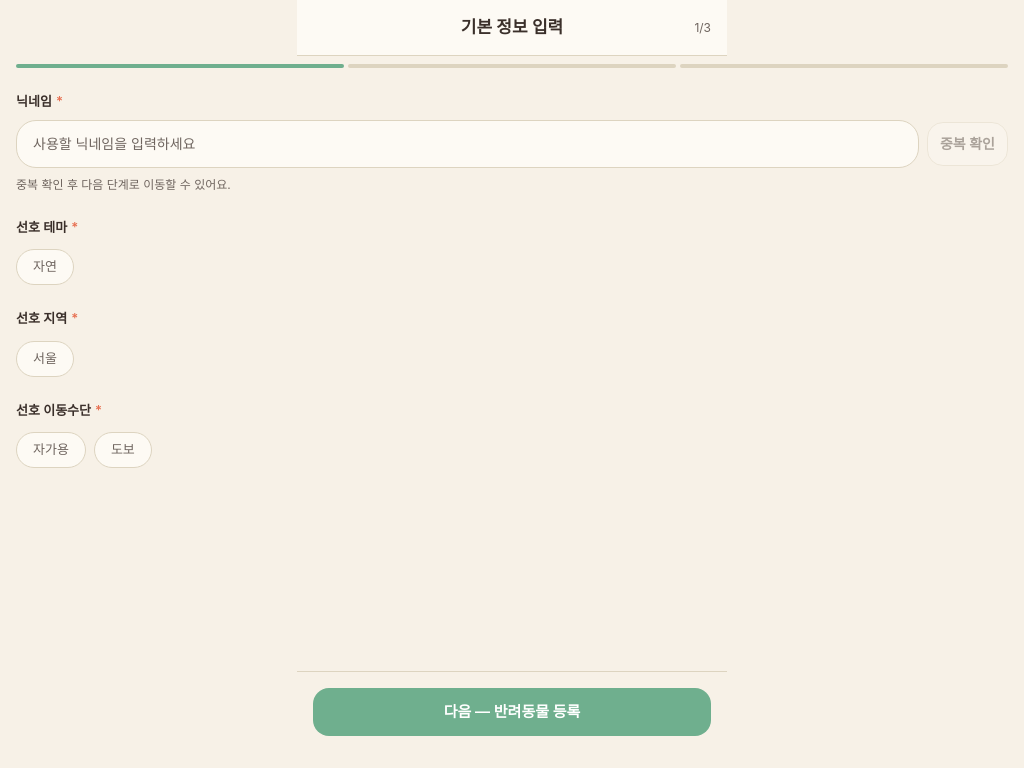
it: SignupScreen › requires the first pet and shows every missing field in a modal
The image size is (1024, 768).
Type "테스터" into the field with placeholder "사용할 닉네임을 입력하세요".
click(467, 144); type("테스터")  # box [16,120,919,168]
Click the button "중복 확인".
click(967, 144)  # box [927,122,1008,166]
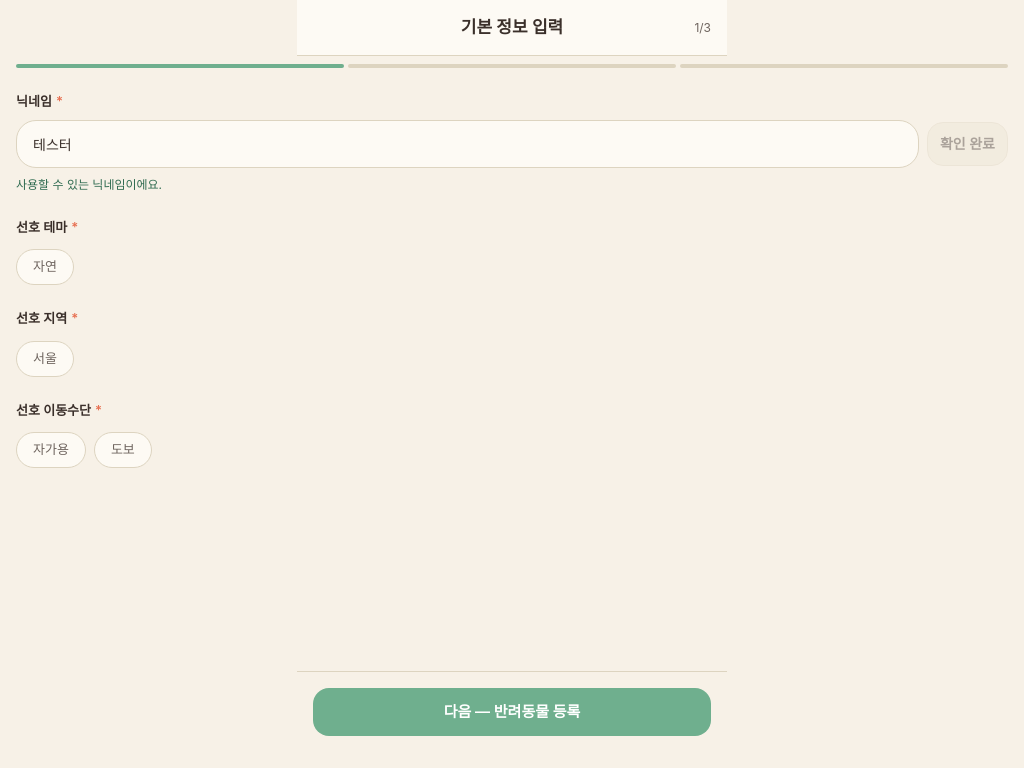
Result: the button "확인 완료" is shown at [927,122,1008,166]
Click the button "자연".
click(45, 267)  # box [16,249,74,285]
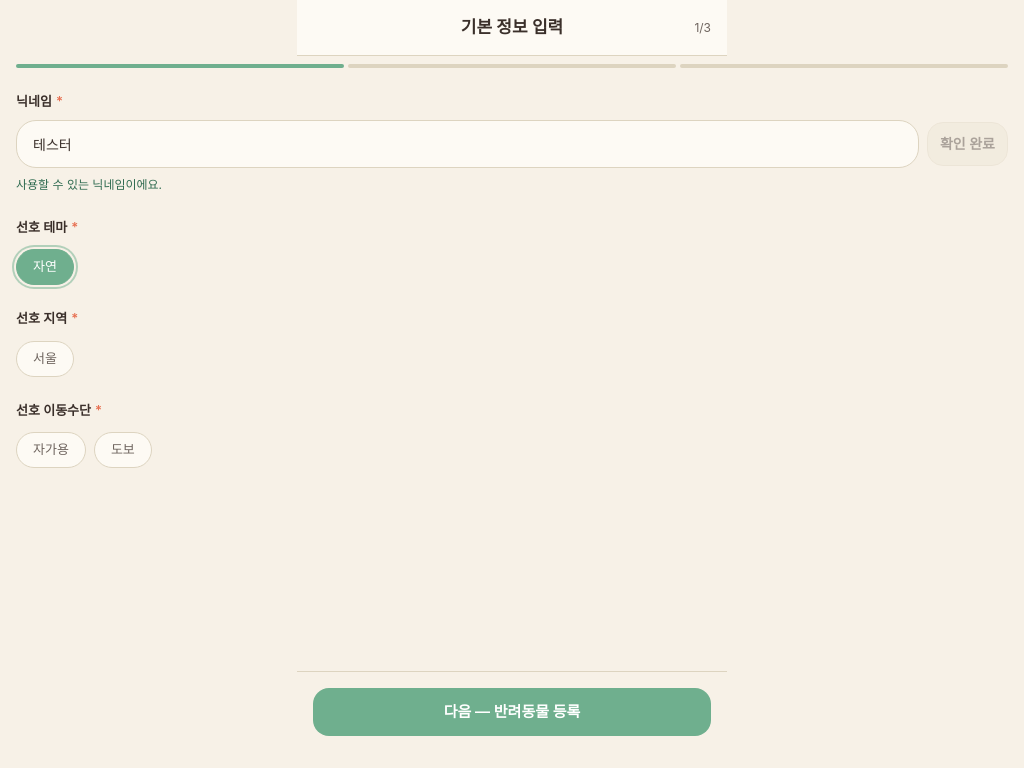
Click the button "서울".
click(45, 358)  # box [16,340,74,376]
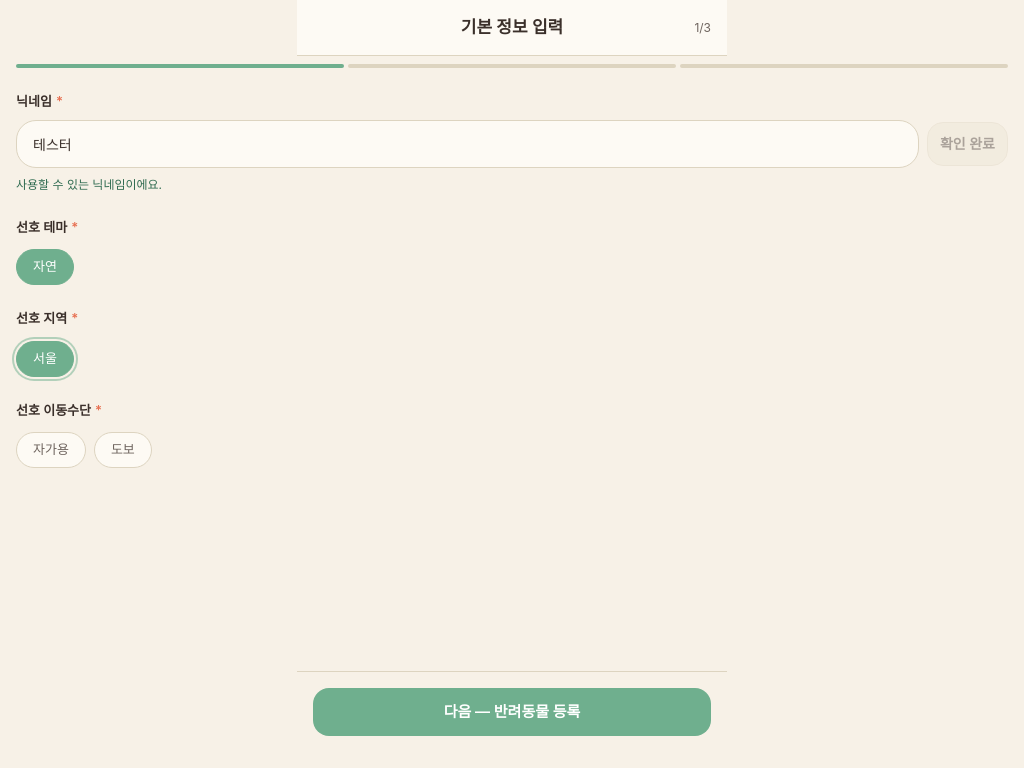
Click the button "자가용".
click(51, 450)  # box [16,432,86,468]
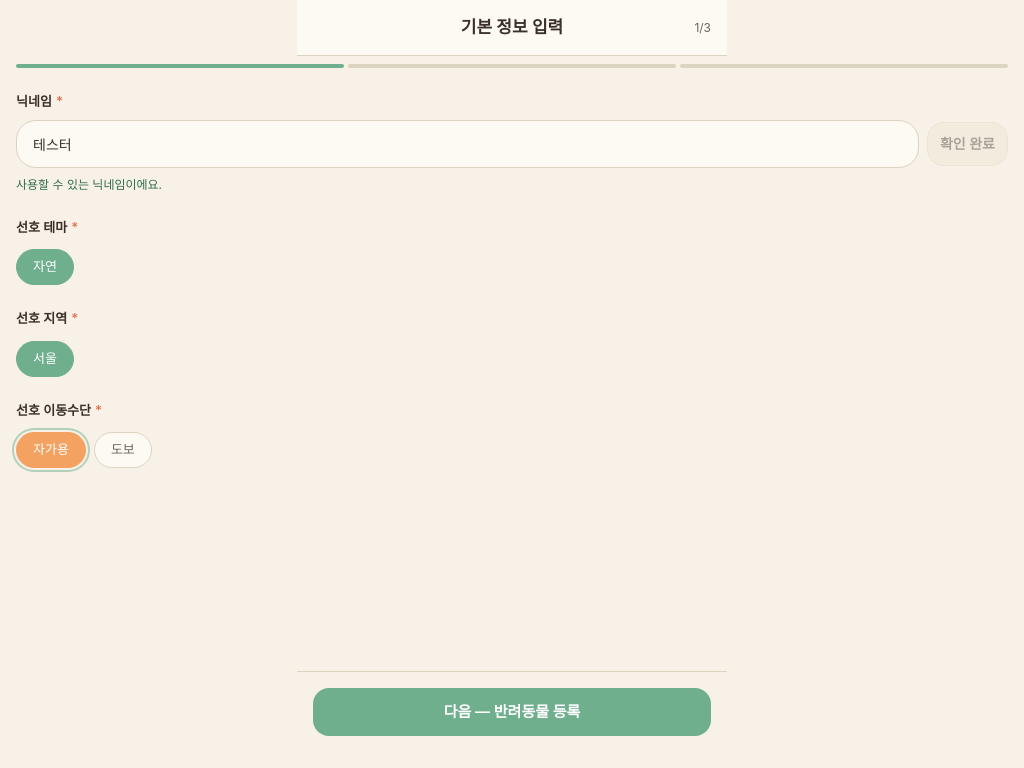
Click the button "다음 — 반려동물 등록".
click(512, 712)  # box [313,688,711,736]
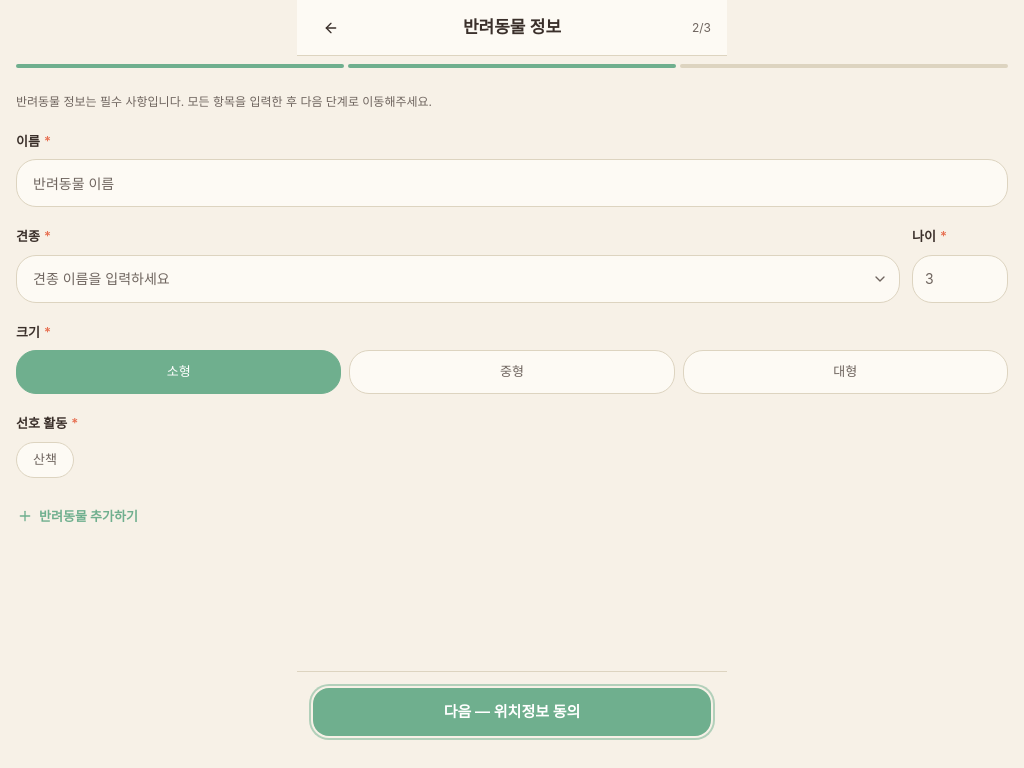
Click the button "다음 — 위치정보 동의".
click(512, 712)  # box [313,688,711,736]
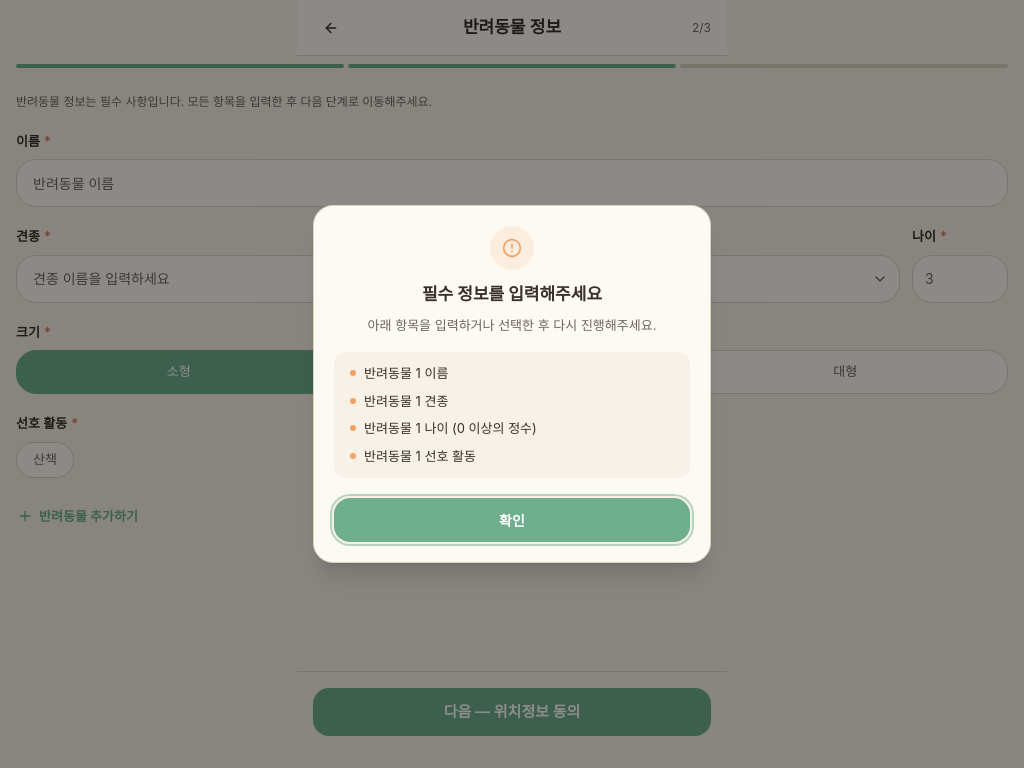
Result: the dialog shows "반려동물 1 이름" at [364,365,448,381]
Result: the dialog shows "반려동물 1 견종" at [364,393,448,409]
Result: the dialog shows "반려동물 1 나이" at [364,420,537,436]
